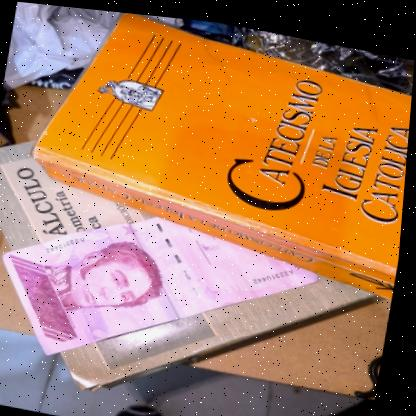one_hundred-front-vef: (0, 186, 330, 398)
